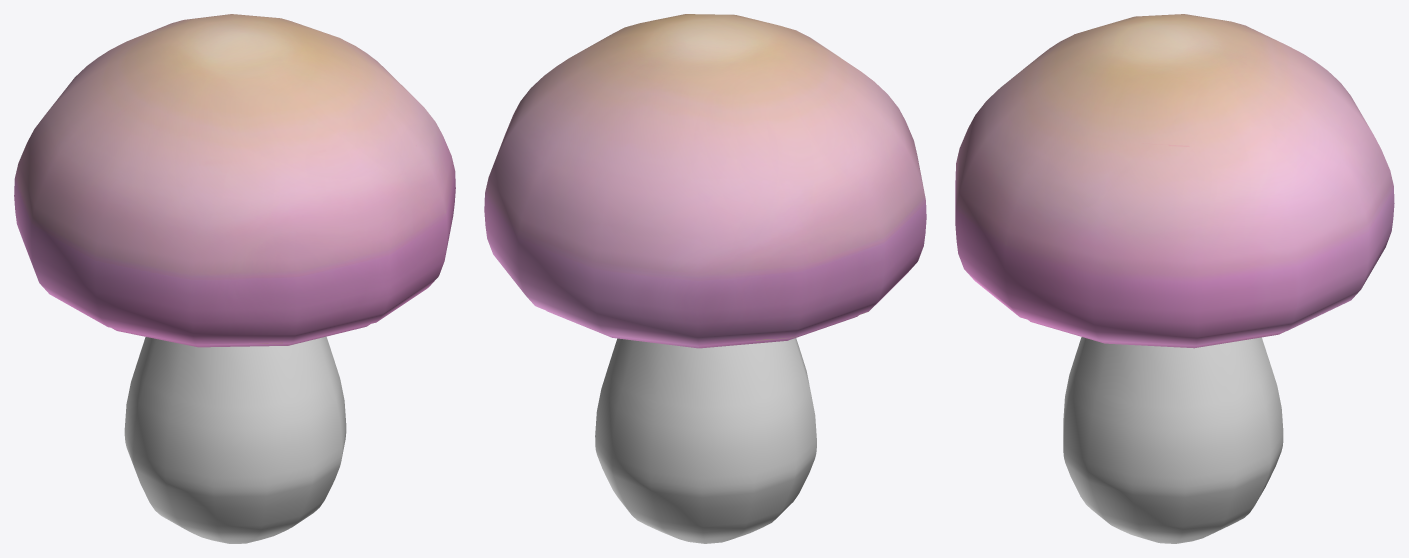
Rendered from fungo1.3.fbx.
3 views of the same model, side by side, from view 1: azimuth 30°, elevation 25°; view 2: azimuth 150°, elevation 25°; view 3: azimuth 270°, elevation 25° (orthographic).
Visible parts, largest first — view 1: Sphere, Sphere.001; view 2: Sphere, Sphere.001; view 3: Sphere, Sphere.001.
Boxes of the visible parts, x1=… form: Sphere: x1=14, y1=14, x2=455, y2=347; Sphere.001: x1=124, y1=336, x2=346, y2=543; Sphere: x1=484, y1=14, x2=926, y2=348; Sphere.001: x1=595, y1=338, x2=816, y2=543; Sphere: x1=955, y1=14, x2=1394, y2=348; Sphere.001: x1=1063, y1=337, x2=1283, y2=543.
Bounding box in the file's own units: 158 × 198 × 157.
